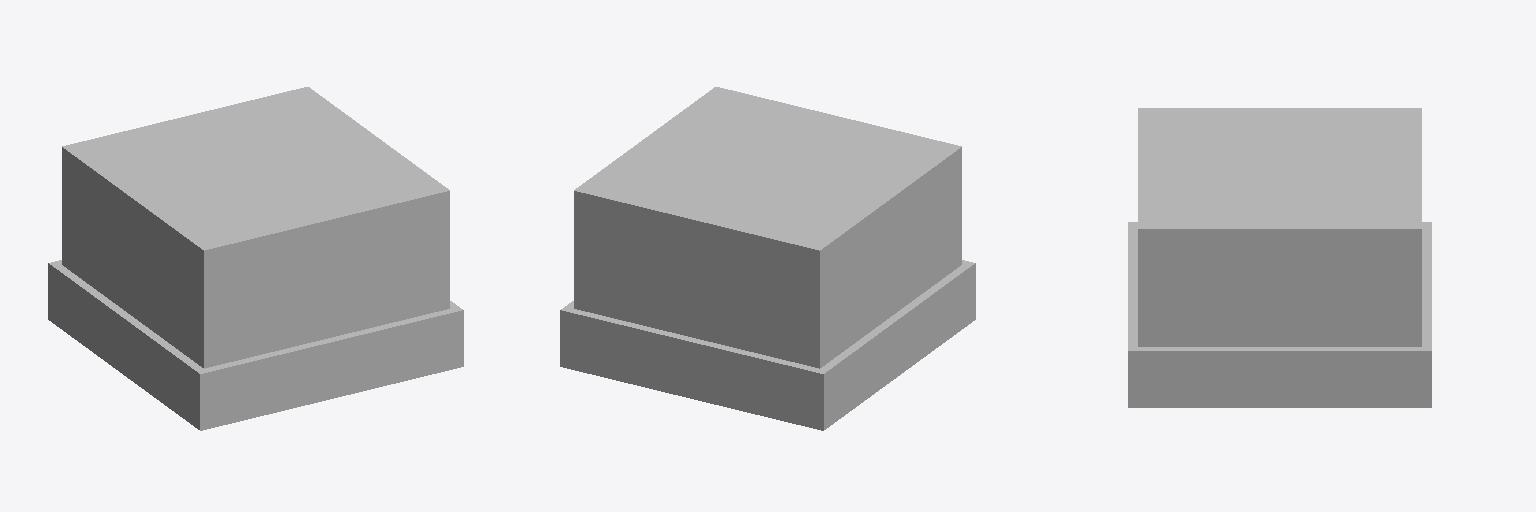
The model's file is tile_009.obj.
The picture shows the model from 3 angles: view 1: azimuth 30°, elevation 25°; view 2: azimuth 150°, elevation 25°; view 3: azimuth 270°, elevation 25°; orthographic projection.
Visible parts, largest first — view 1: tile_009; view 2: tile_009; view 3: tile_009.
Part boxes in pixels (x1,y1,x2,y2): tile_009: (48,87,463,430); tile_009: (560,87,975,430); tile_009: (1128,108,1431,407).
Size of the model in its own units: 0.6301 by 0.4 by 0.6301.